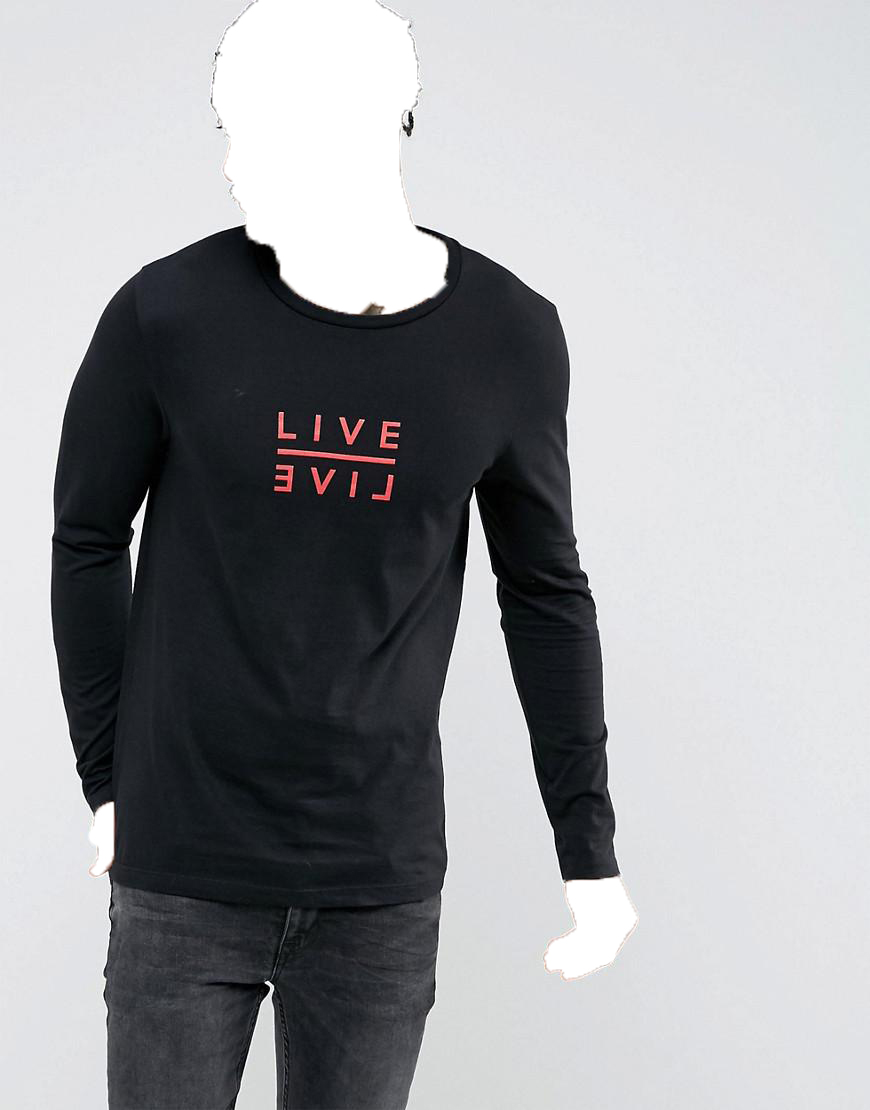teeshirt: (32, 217, 646, 891)
